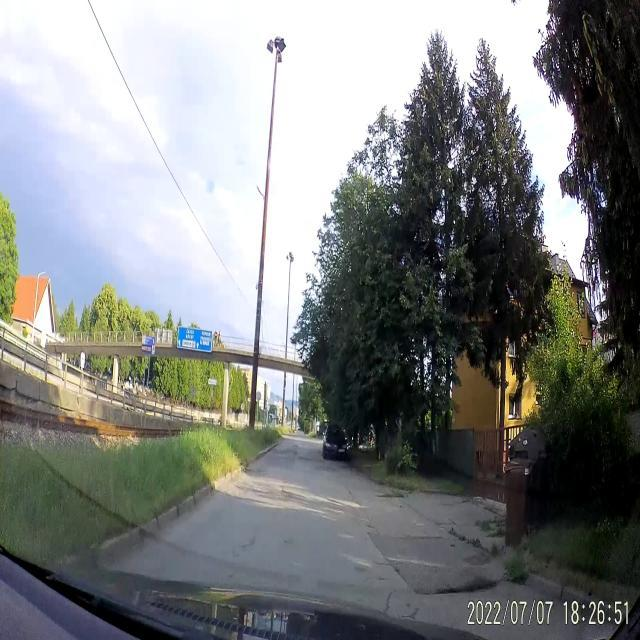Pothole: (424, 576, 506, 602), (460, 551, 490, 566)
